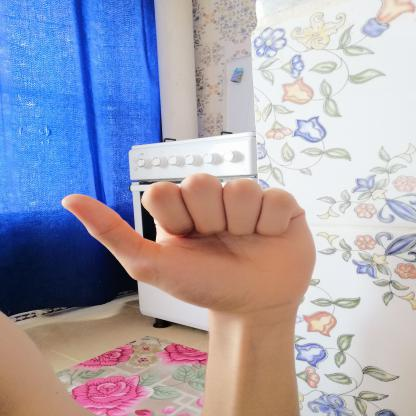DAD: (42, 164, 327, 322)
